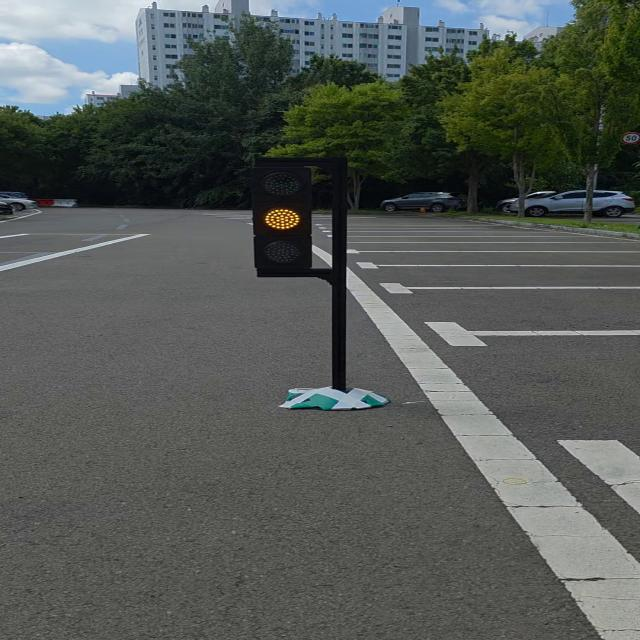yellow: (243, 159, 322, 279)
